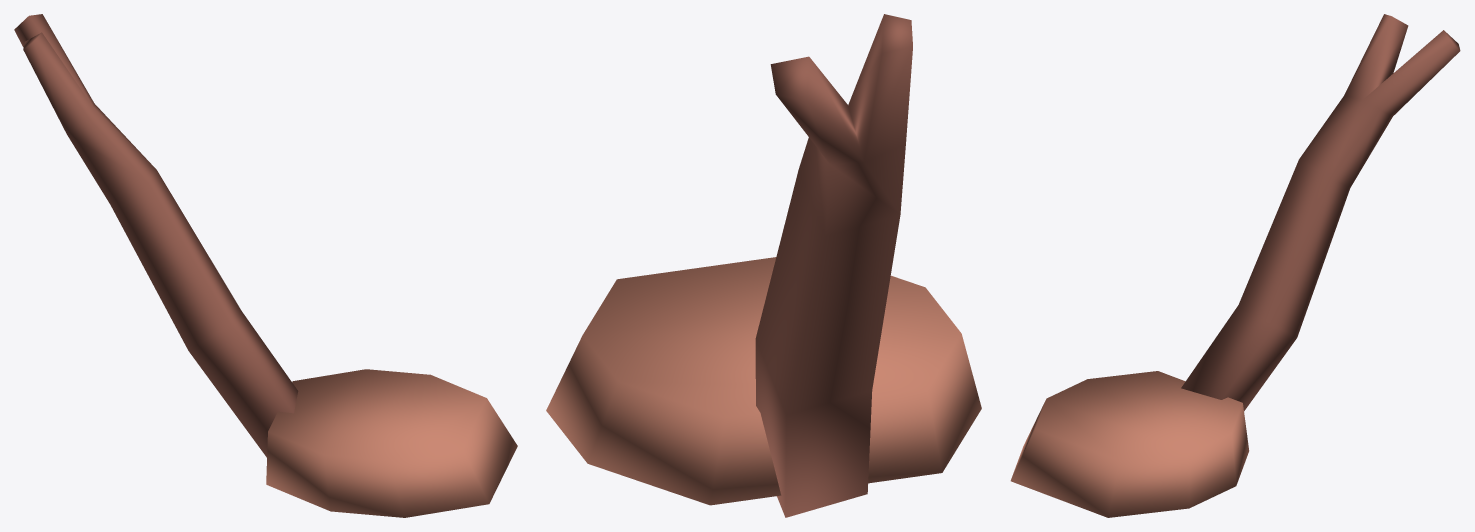
File: metalDetector.fbx
The picture shows the model from 3 angles, left to right: view 1: azimuth 30°, elevation 25°; view 2: azimuth 150°, elevation 25°; view 3: azimuth 270°, elevation 25°; orthographic projection. The views are drawn at different scales.
Visible parts, largest first — view 1: Cube.013; view 2: Cube.013; view 3: Cube.013.
Part boxes in pixels (x1,y1,x2,y2): Cube.013: (14, 14, 517, 517); Cube.013: (546, 14, 981, 517); Cube.013: (1010, 14, 1460, 517).
Size of the model in its own units: 99.68 by 111 by 122.
